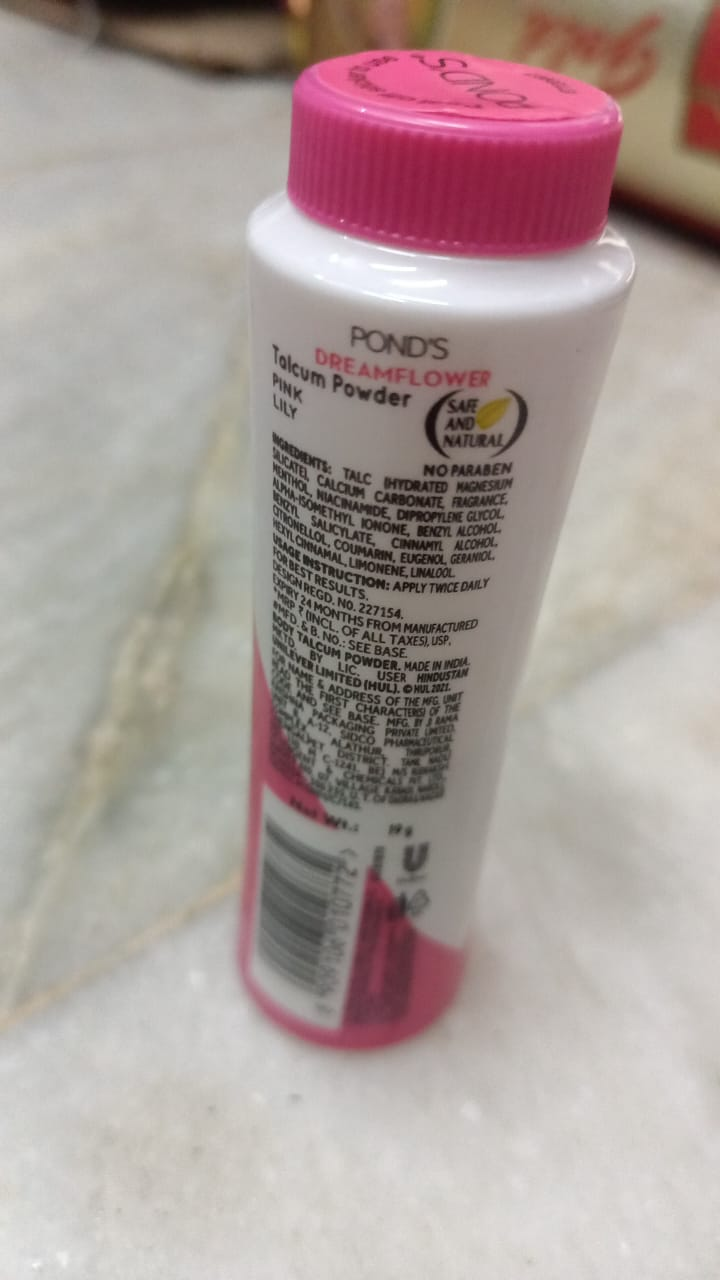ponds face powder: (246, 31, 654, 1039)
